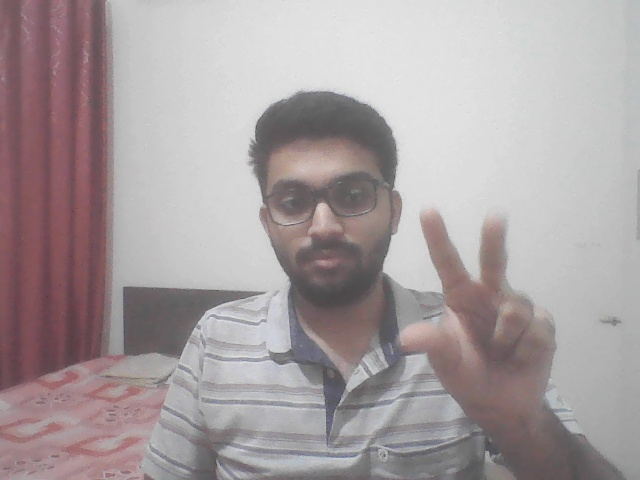no: (376, 202, 573, 435)
